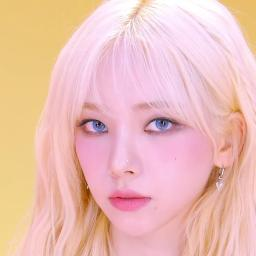face: (83, 66, 205, 226)
